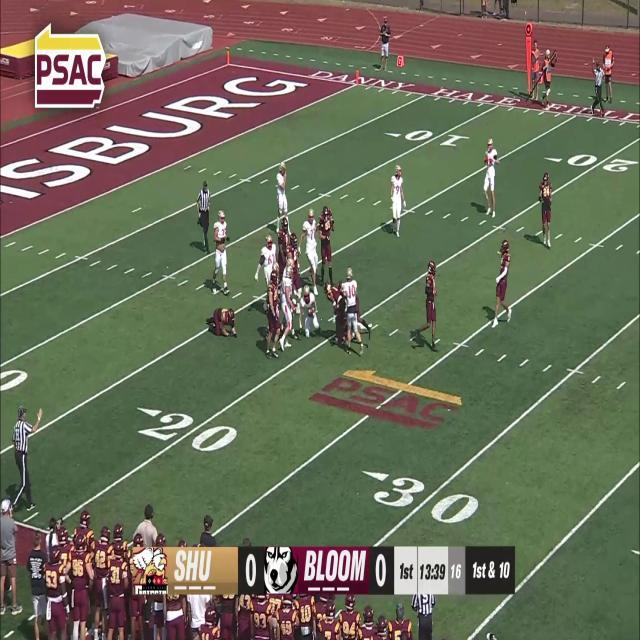football: (308, 306, 314, 316)
